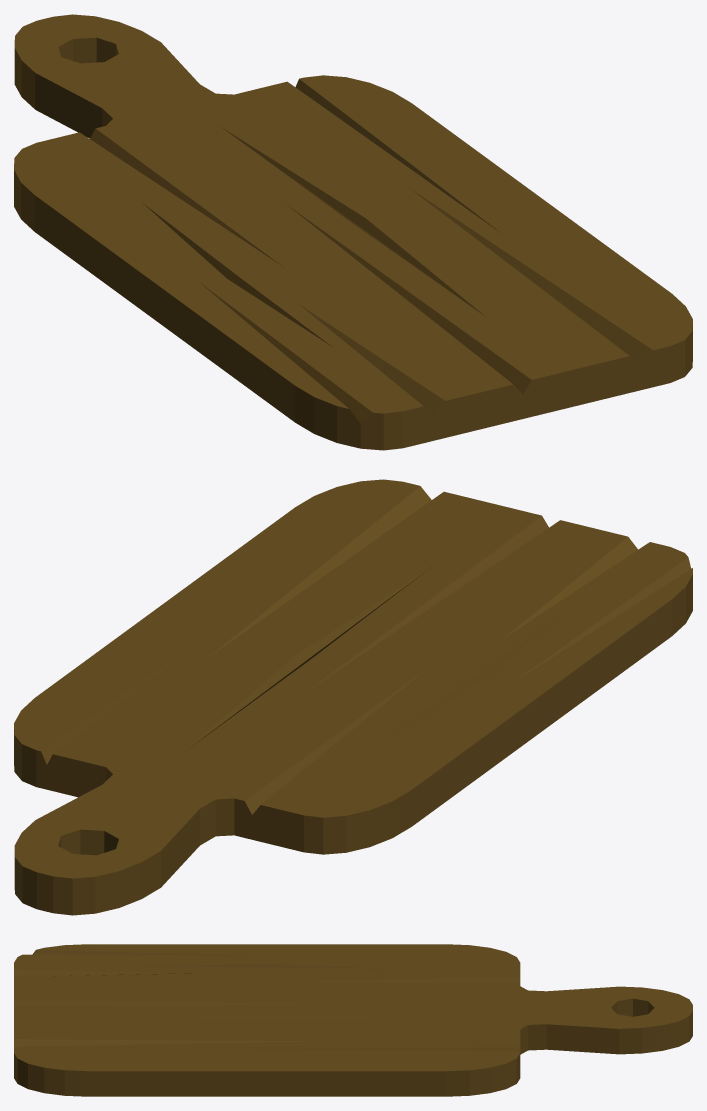
Rendered from cutting-board.fbx.
The picture shows the model from 3 angles, top to bottom: view 1: azimuth 30°, elevation 25°; view 2: azimuth 150°, elevation 25°; view 3: azimuth 270°, elevation 25°; orthographic projection. The views are drawn at different scales.
Visible parts, largest first — view 1: Cube; view 2: Cube; view 3: Cube.
Part boxes in pixels (left/top/right/bottom): Cube: left=14, top=14, right=692, bottom=450; Cube: left=14, top=479, right=692, bottom=915; Cube: left=14, top=944, right=692, bottom=1096.
Size of the model in its own units: 82.24 by 7.7 by 186.
